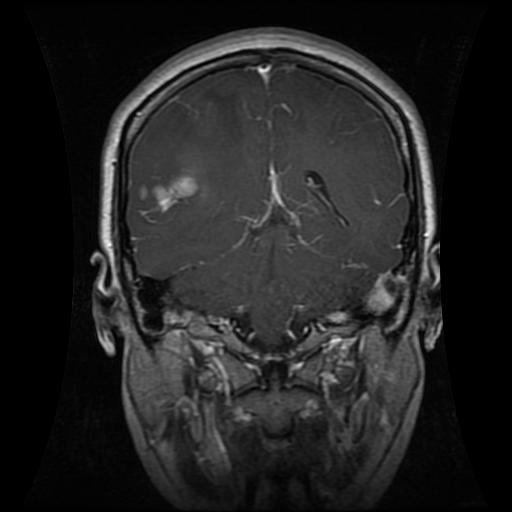Gliomia_tumour: (135, 161, 206, 224)
